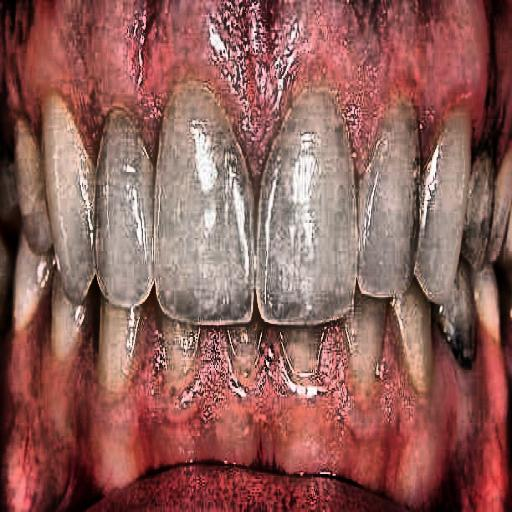Gingivitis: (16, 0, 499, 156)
